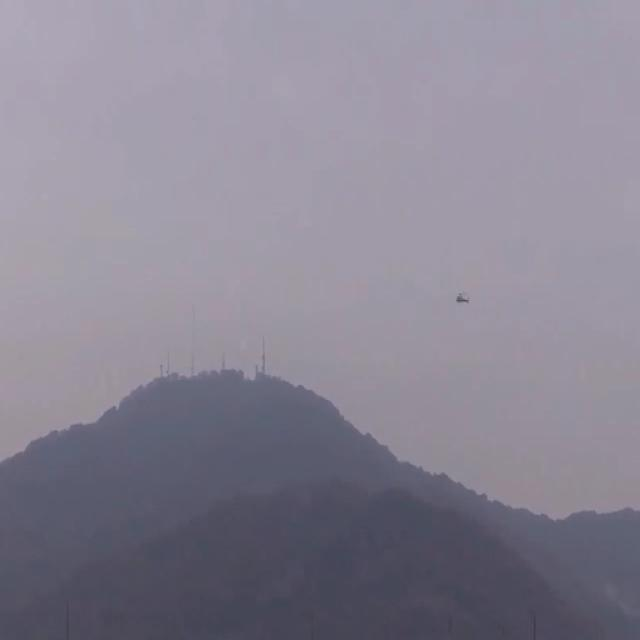Helicopter: (440, 276, 482, 316)
